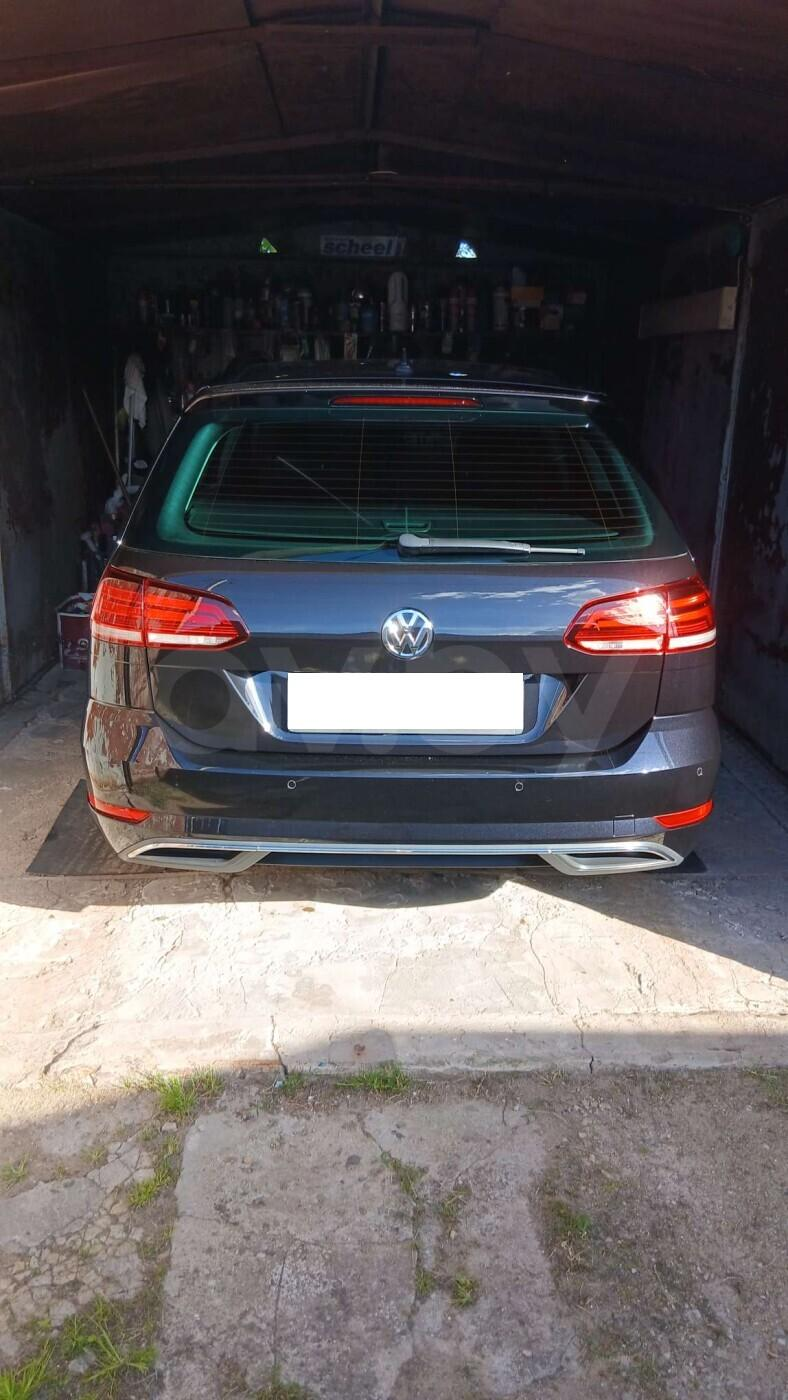Golf_2017-2021: (78, 352, 734, 896)
